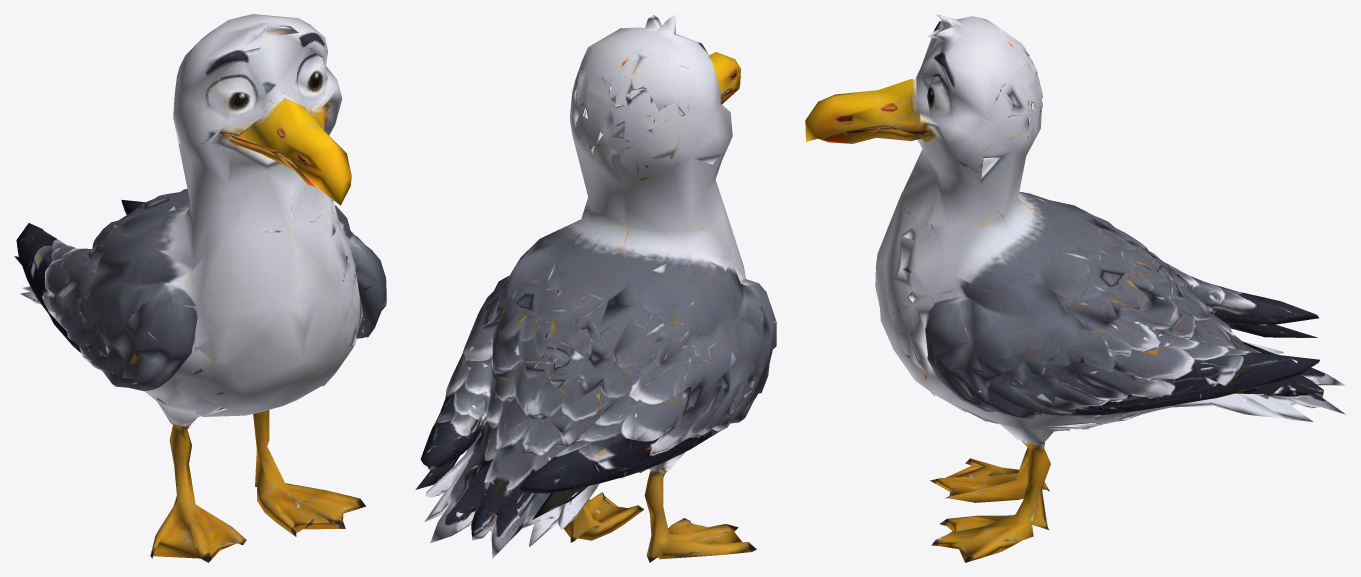
The model's file is gull.glb.
The picture shows the model from 3 angles, left to right: view 1: azimuth 30°, elevation 25°; view 2: azimuth 150°, elevation 25°; view 3: azimuth 270°, elevation 25°; orthographic projection. The views are drawn at different scales.
Size of the model in its own units: 0.997 by 1.9 by 1.88.
1 material, 1 textured.
